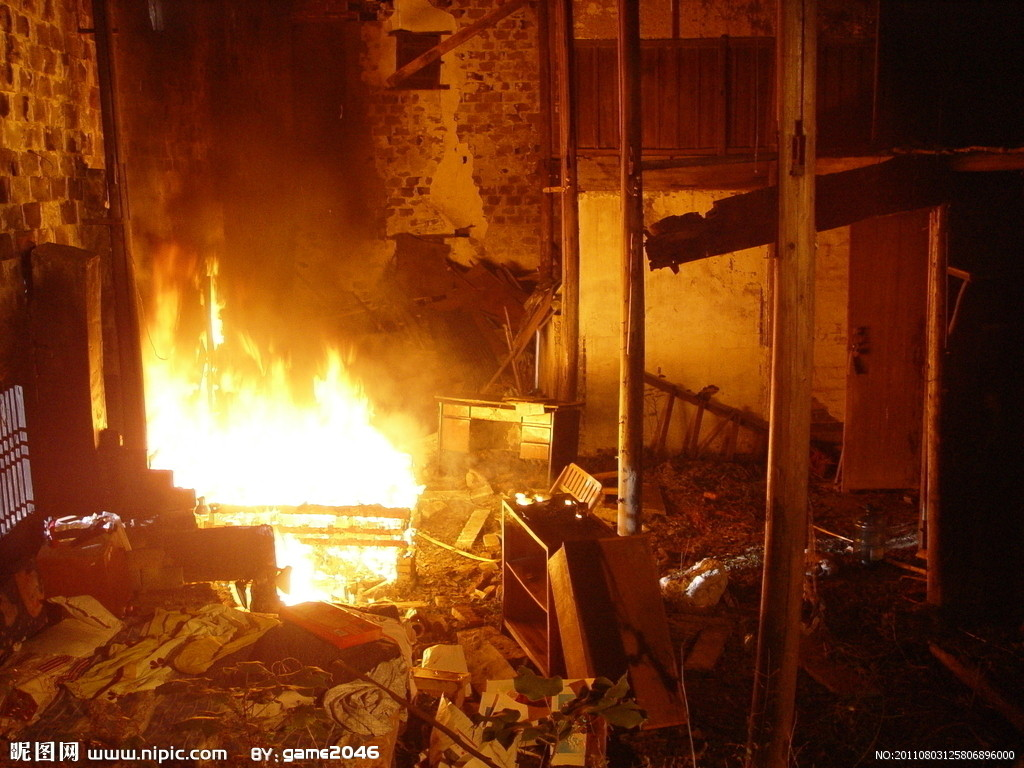fire: (131, 257, 440, 524)
